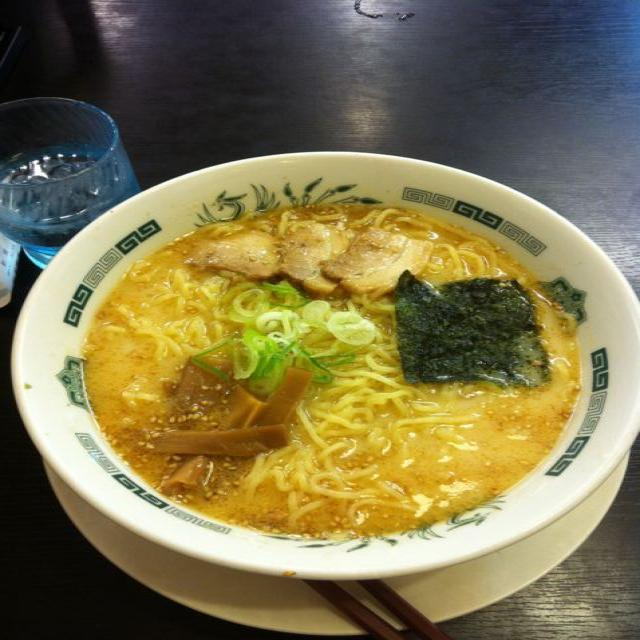面条主食: (187, 0, 640, 478)
